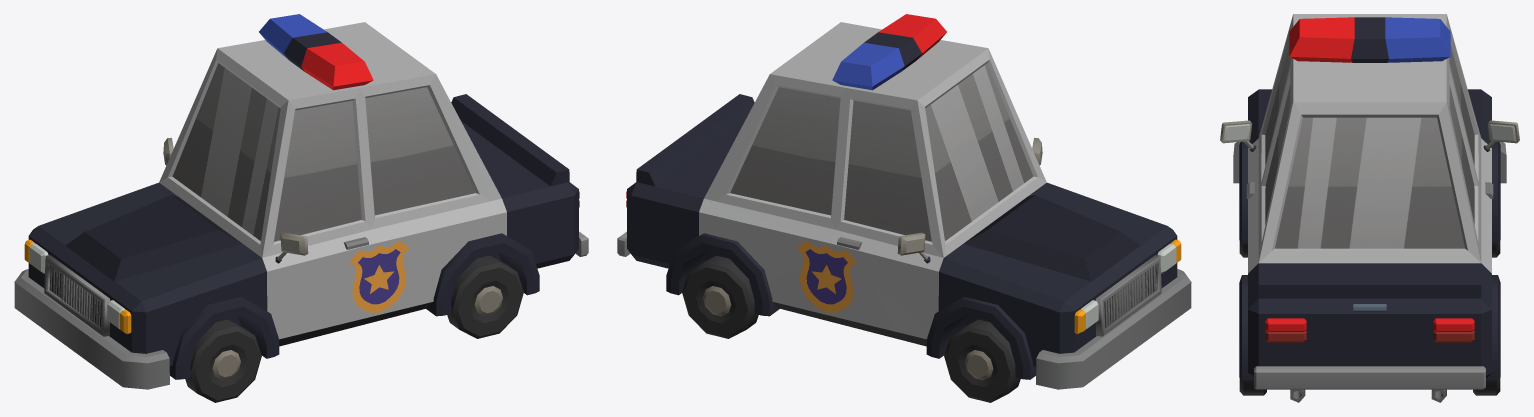
Rendered from Car_Police_1_A_2.gltf.
The picture shows the model from 3 angles, left to right: view 1: azimuth 30°, elevation 25°; view 2: azimuth 150°, elevation 25°; view 3: azimuth 270°, elevation 25°; orthographic projection. The views are drawn at different scales.
Visible parts, largest first — view 1: Car_Police_1_A_2, RL, FL; view 2: Car_Police_1_A_2, RR, FR; view 3: Car_Police_1_A_2, RL, RR.
Part boxes in pixels (x1,y1,x2,y2): Car_Police_1_A_2: [14, 14, 588, 389]; RL: [447, 255, 523, 338]; FL: [185, 319, 261, 402]; Car_Police_1_A_2: [617, 14, 1191, 389]; RR: [682, 255, 758, 338]; FR: [944, 319, 1020, 402]; Car_Police_1_A_2: [1220, 14, 1519, 402]; RL: [1239, 378, 1266, 395]; RR: [1473, 378, 1500, 395].
Size of the model in its own units: 3.46 by 1.99 by 1.78.
3 materials, 3 textured.
